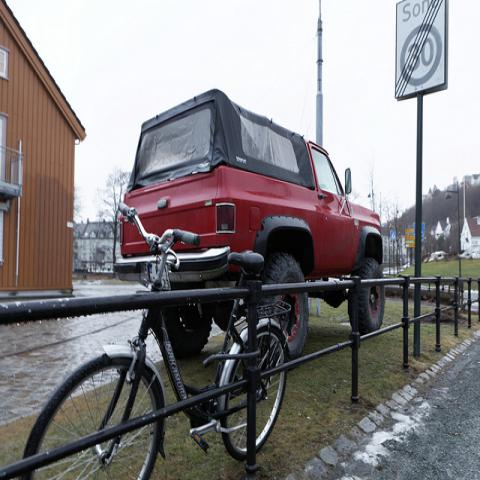car: (428, 251, 448, 261)
truck: (112, 91, 388, 365)
